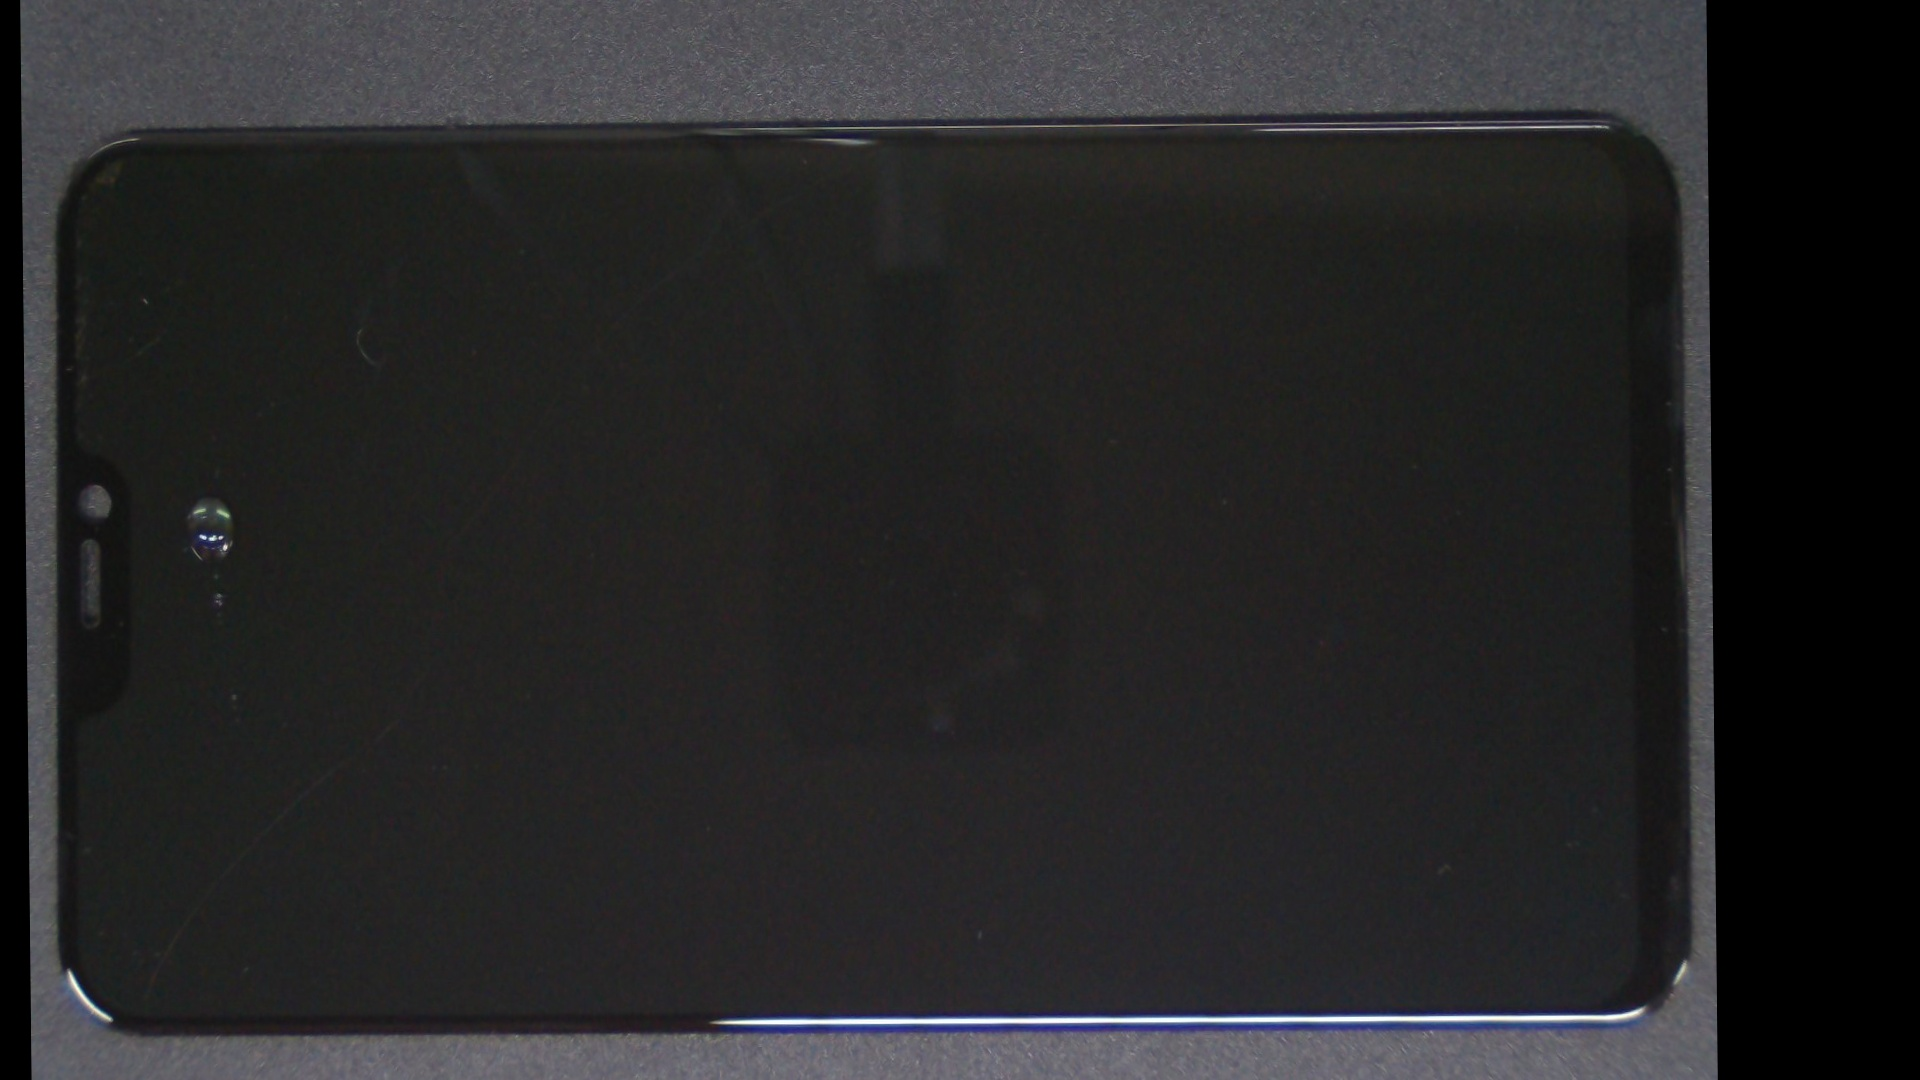oil: (112, 243, 293, 750)
